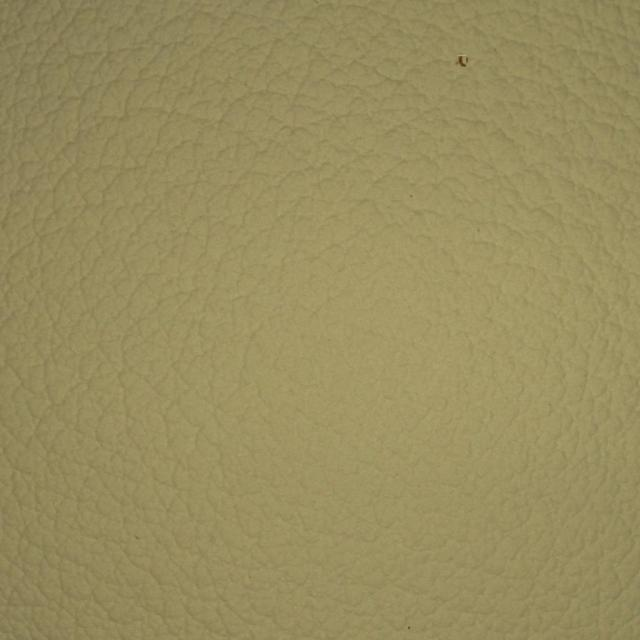Scratch: (412, 10, 512, 171)
